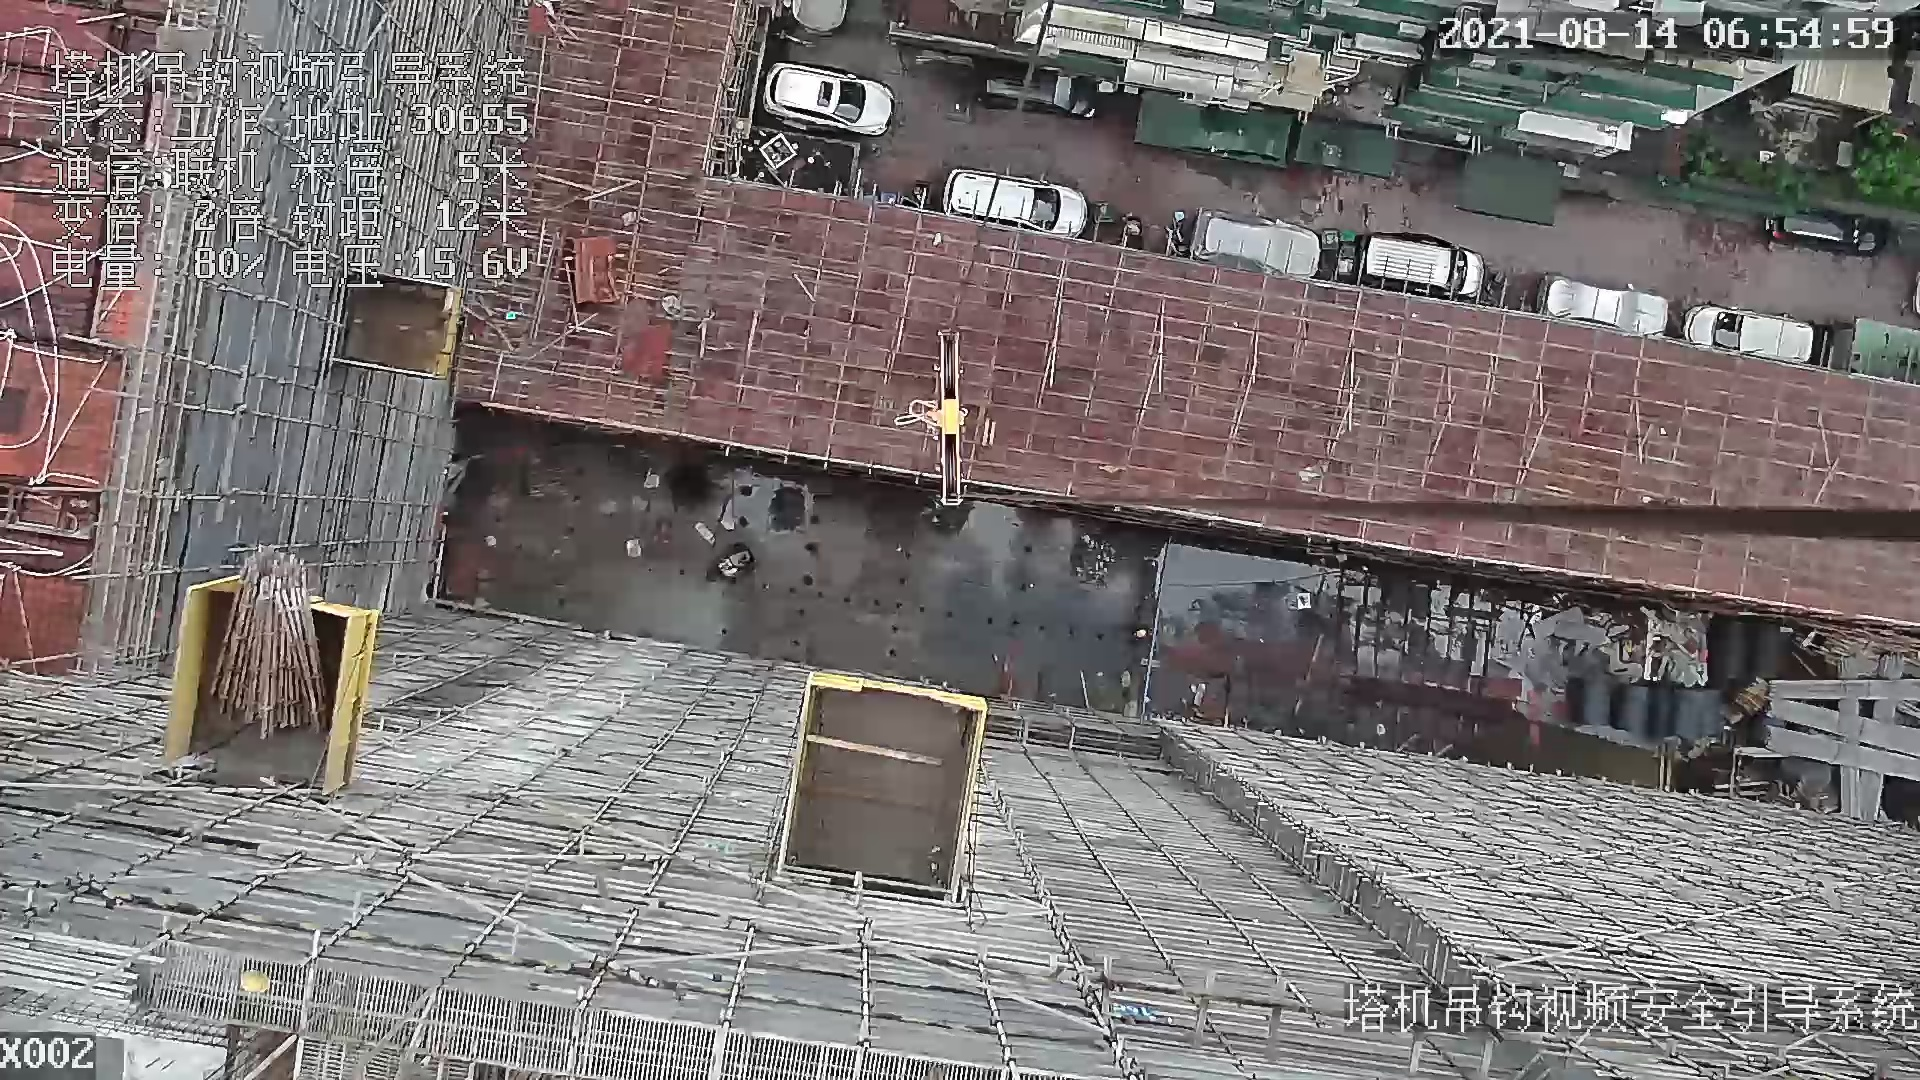hook: (910, 328, 982, 512)
rebar: (1, 938, 146, 1011), (1768, 725, 1920, 782), (1774, 698, 1920, 756), (1768, 678, 1920, 703)
scaffold: (211, 549, 328, 738)
